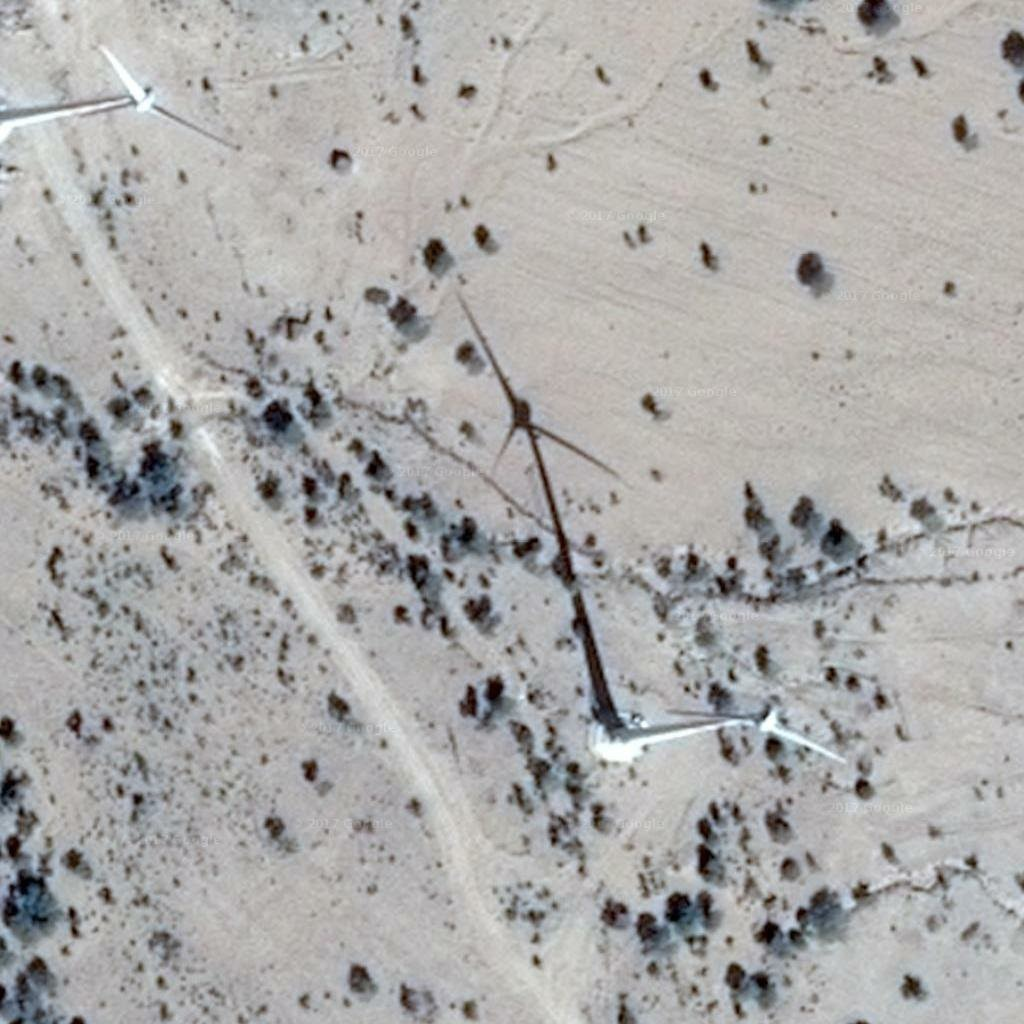Windmill: (452, 290, 645, 709)
